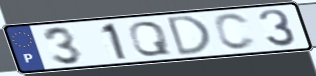1: (99, 22, 130, 62)
3: (42, 25, 85, 66), (258, 8, 298, 48)
C: (212, 12, 259, 52)
D: (165, 14, 215, 58)
Q: (127, 20, 174, 58)
